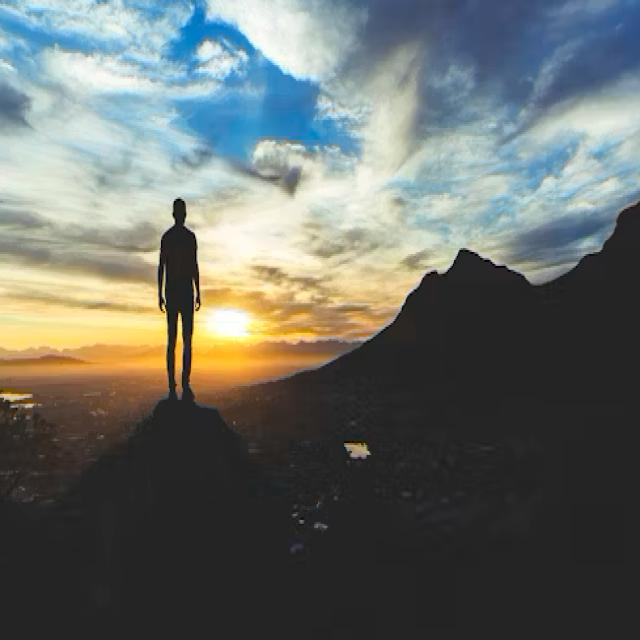Edited images: (141, 172, 223, 410)
